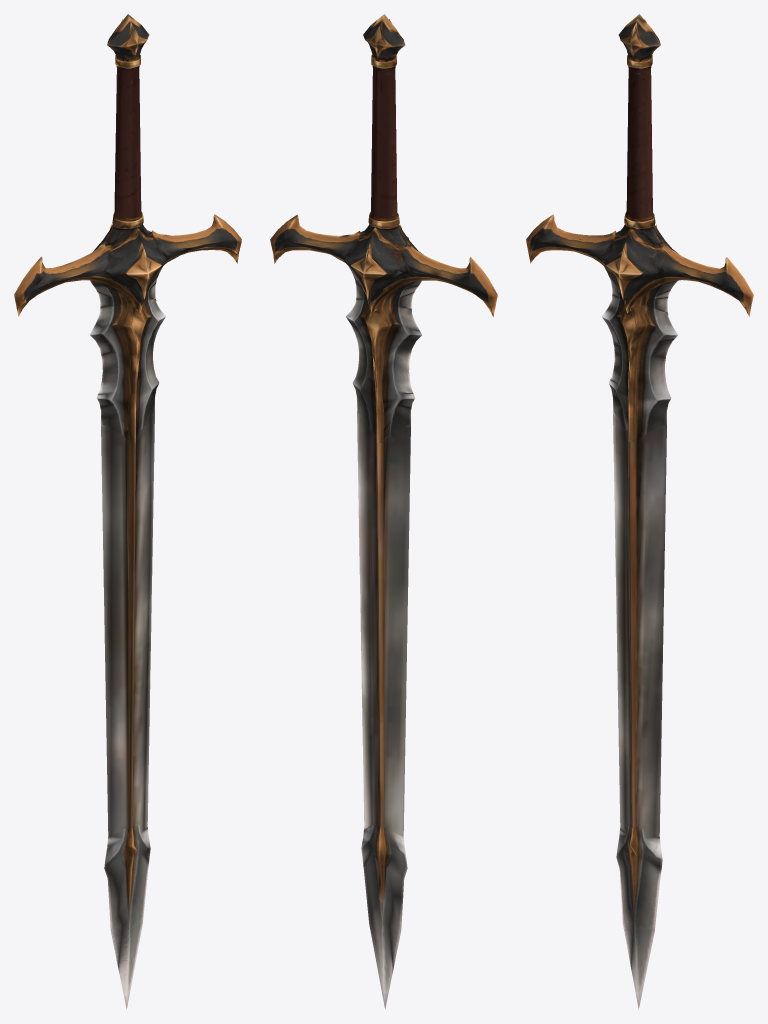
The model's file is schwert.glb.
3 renders of one model, left to right at view 1: azimuth 30°, elevation 25°; view 2: azimuth 150°, elevation 25°; view 3: azimuth 330°, elevation 25°, orthographic.
Parts seen in each view (by area): view 1: geometry_0; view 2: geometry_0; view 3: geometry_0.
Part boxes in pixels (left/top/right/bottom): geometry_0: left=14, top=14, right=241, bottom=1009; geometry_0: left=270, top=14, right=497, bottom=1009; geometry_0: left=526, top=14, right=753, bottom=1009.
Size of the model in its own units: 0.2992 by 1.25 by 0.0942.
Materials: 1 (1 with a texture image).
